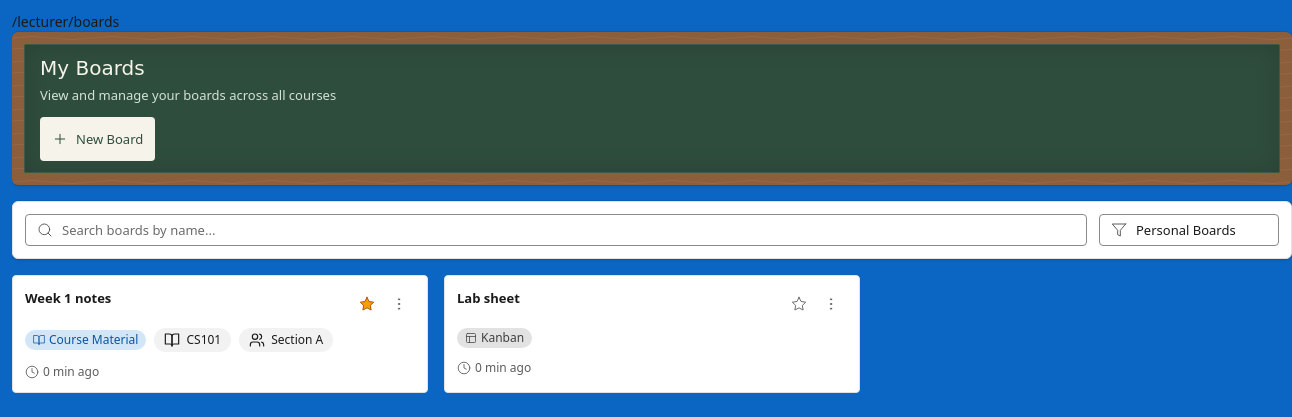
LecturerBoardsPage › the board menu archives a board and removes it from the list
This screenshot has width=1292, height=417.
Step 1. Click the button named "Board actions for Lab sheet" → (831, 304), box top-left (815, 288), bottom-right (847, 320)
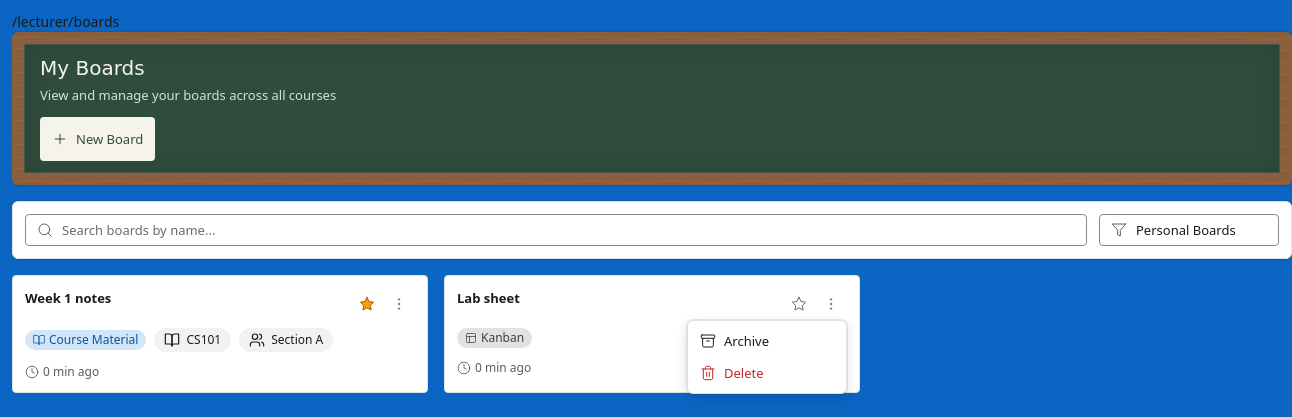
Expected: the menu items read "Archive", "Delete", in this order
Step 2. Click the menu item "Archive" → (767, 341), box top-left (692, 325), bottom-right (842, 357)
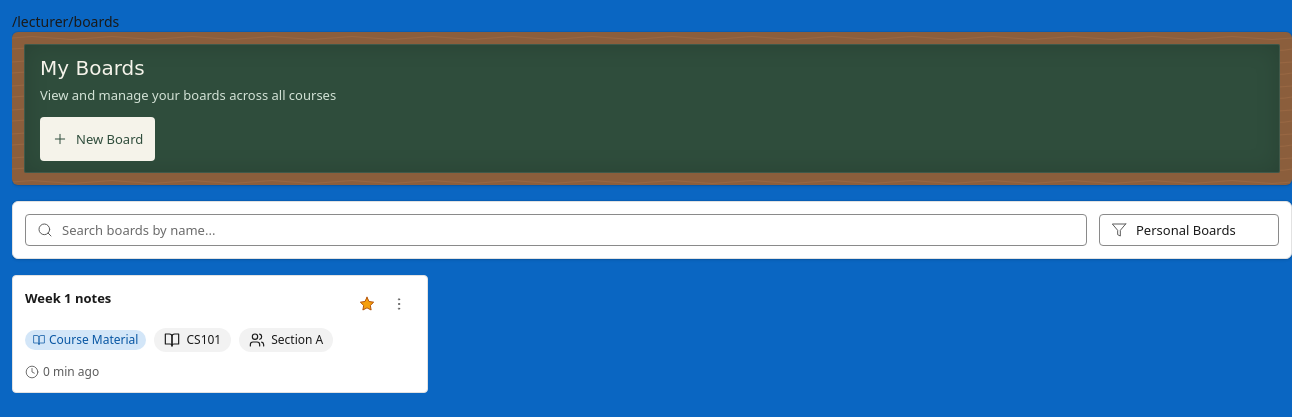
Expected: the button "Lab sheet" is gone
